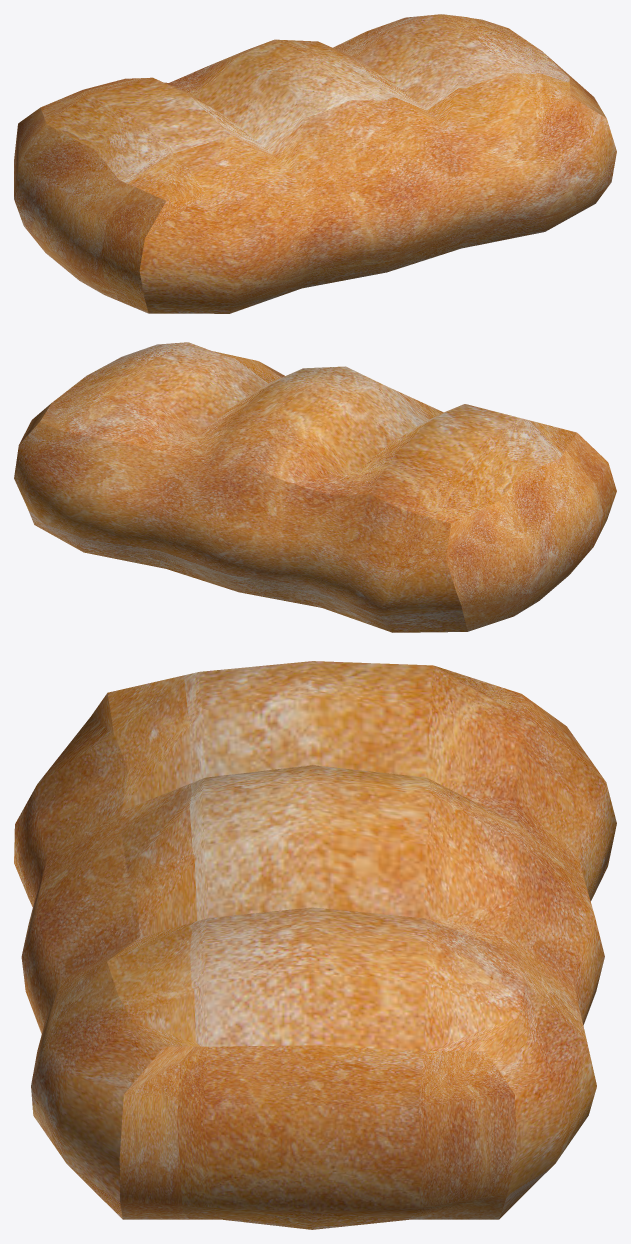
Rendered from breadAsset.fbx.
3 views of the same model, one above another, from view 1: azimuth 30°, elevation 25°; view 2: azimuth 150°, elevation 25°; view 3: azimuth 270°, elevation 25° (orthographic). The views are drawn at different scales.
Visible parts, largest first — view 1: bread; view 2: bread; view 3: bread.
Part boxes in pixels (x1,y1,x2,y2): bread: (14, 14, 616, 313); bread: (14, 342, 616, 632); bread: (14, 661, 616, 1229).
Bounding box in the file's own units: 9.06 × 2.76 × 5.61.
1 material, 1 textured.
